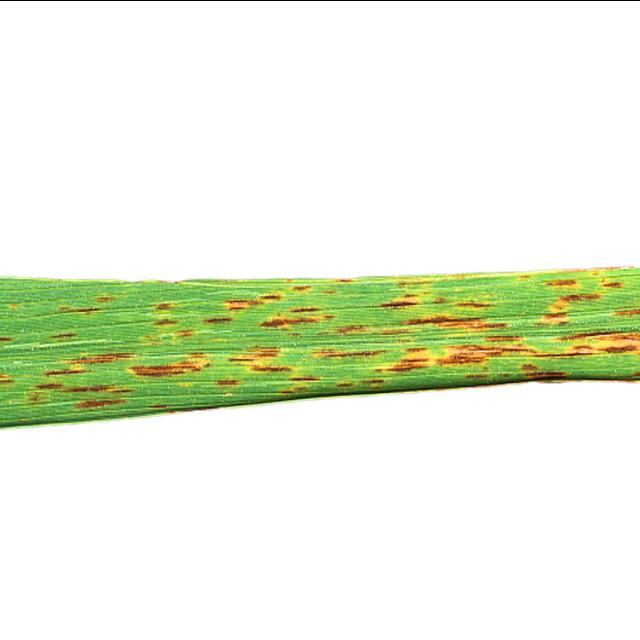Narrow brown: (0, 184, 640, 476)
